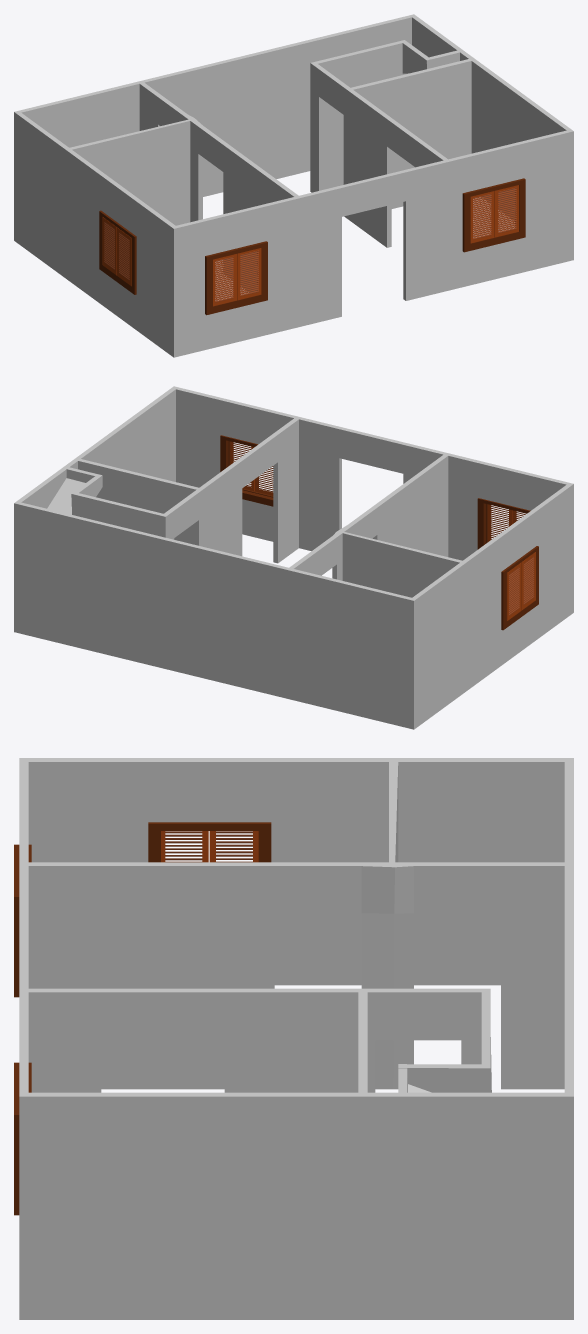
The model's file is Mansion.fbx.
The picture shows the model from 3 angles, top to bottom: view 1: azimuth 30°, elevation 25°; view 2: azimuth 150°, elevation 25°; view 3: azimuth 270°, elevation 25°; orthographic projection. The views are drawn at different scales.
Parts seen in each view (by area): view 1: Cube.017, Cube.036, Cube.038, Cube.039, Cube.042, Cube.034, Cube.035, Cube.044, Cube.043, Cube.037, Cube.045, Cube.047 (+1 smaller); view 2: Cube.017, Cube.039, Cube.036, Cube.038, Cube.045, Cube.046, Cube.047, Cube.043; view 3: Cube.017, Cube.039, Cube.036, Cube.038, Cube.047, Cube.046, Cube.045.
Boxes of the visible parts, box(x1,y1,x2,y2) form: Cube.017: box(14, 14, 573, 357); Cube.036: box(462, 178, 525, 252); Cube.038: box(205, 241, 267, 315); Cube.039: box(99, 210, 136, 294); Cube.042: box(213, 248, 261, 306); Cube.034: box(470, 185, 518, 243); Cube.035: box(498, 187, 516, 233); Cube.044: box(215, 256, 233, 302); Cube.043: box(240, 250, 258, 296); Cube.037: box(473, 193, 491, 239); Cube.045: box(102, 217, 131, 286); Cube.047: box(104, 221, 114, 269); Cube.017: box(14, 386, 573, 729); Cube.039: box(501, 546, 538, 630); Cube.036: box(220, 435, 273, 506); Cube.038: box(477, 498, 530, 549); Cube.045: box(506, 552, 535, 620); Cube.046: box(523, 556, 534, 604); Cube.047: box(509, 567, 519, 615); Cube.043: box(490, 506, 508, 539); Cube.017: box(19, 758, 573, 1319); Cube.039: box(148, 822, 271, 862); Cube.036: box(14, 1062, 31, 1215); Cube.038: box(14, 844, 31, 997); Cube.047: box(216, 831, 252, 862); Cube.046: box(165, 831, 202, 862); Cube.045: box(161, 831, 258, 862).
Bounding box in the file's own units: 1307 × 401 × 909.
